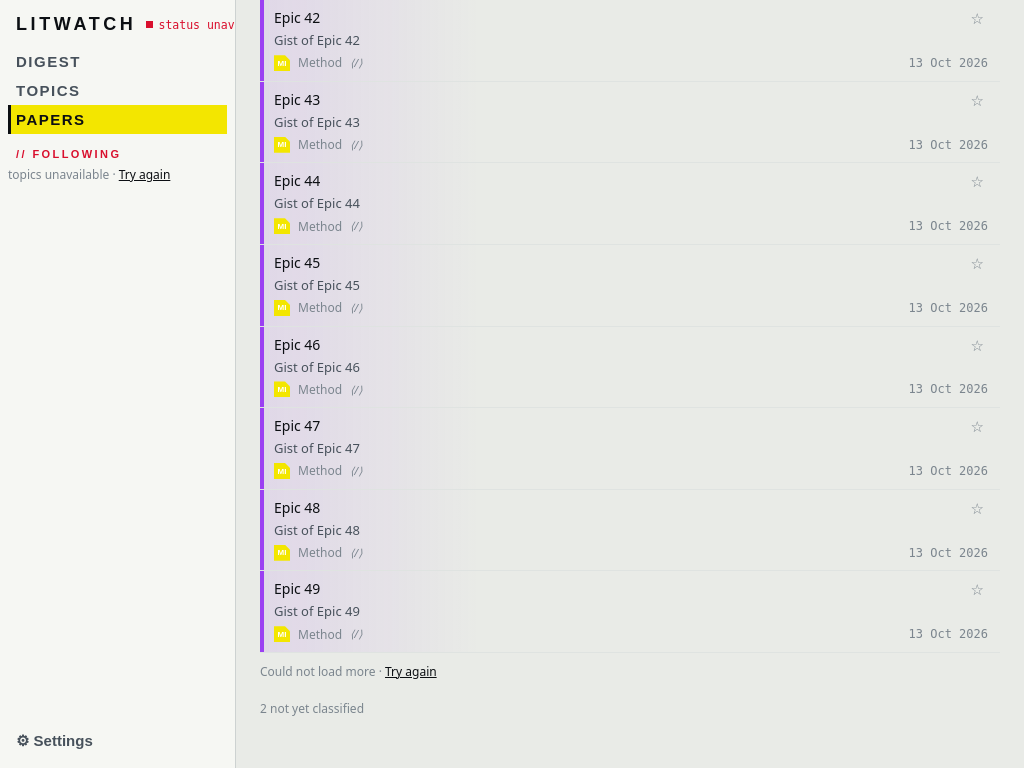
Scenario: Papers › keeps the rows it has when the next page fails, and tries that page again on request
(page scrolled)
Check: the text "Could not load more · Try again" is shown, box [260,663,437,680]
Click the button "Try again" next to "Could not load more". click: [411, 672]
box: [385,663,437,680]
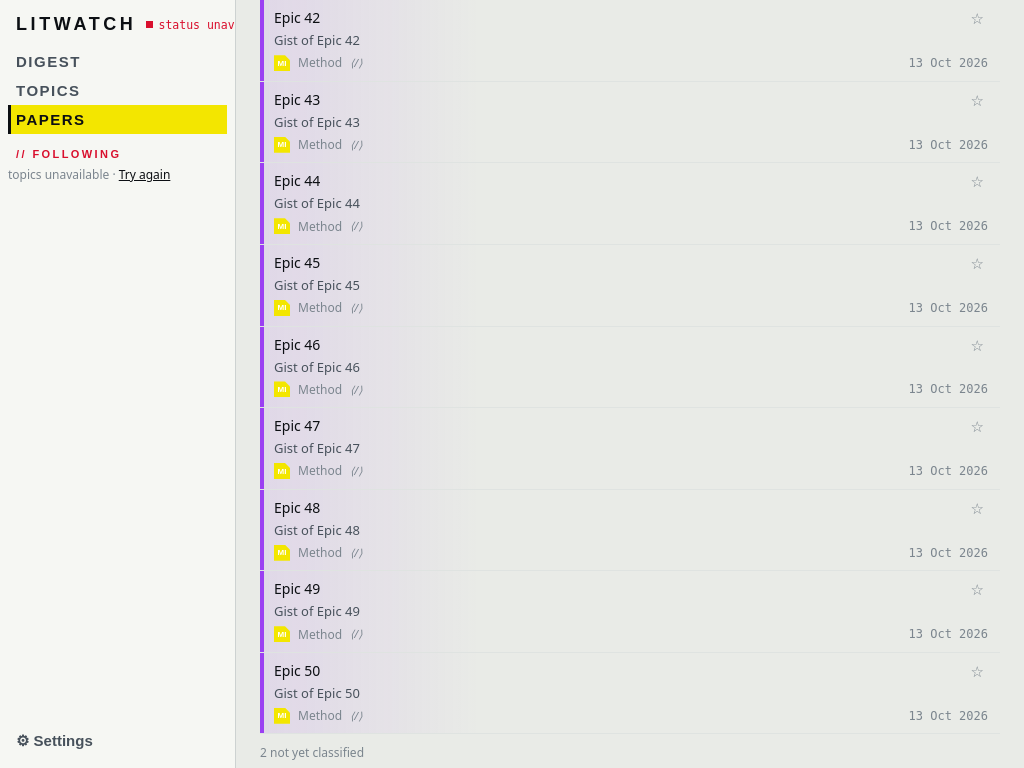
Check: the text "Epic 50" is shown, box [274,661,320,680]
Check: the text "Could not load" is gone
